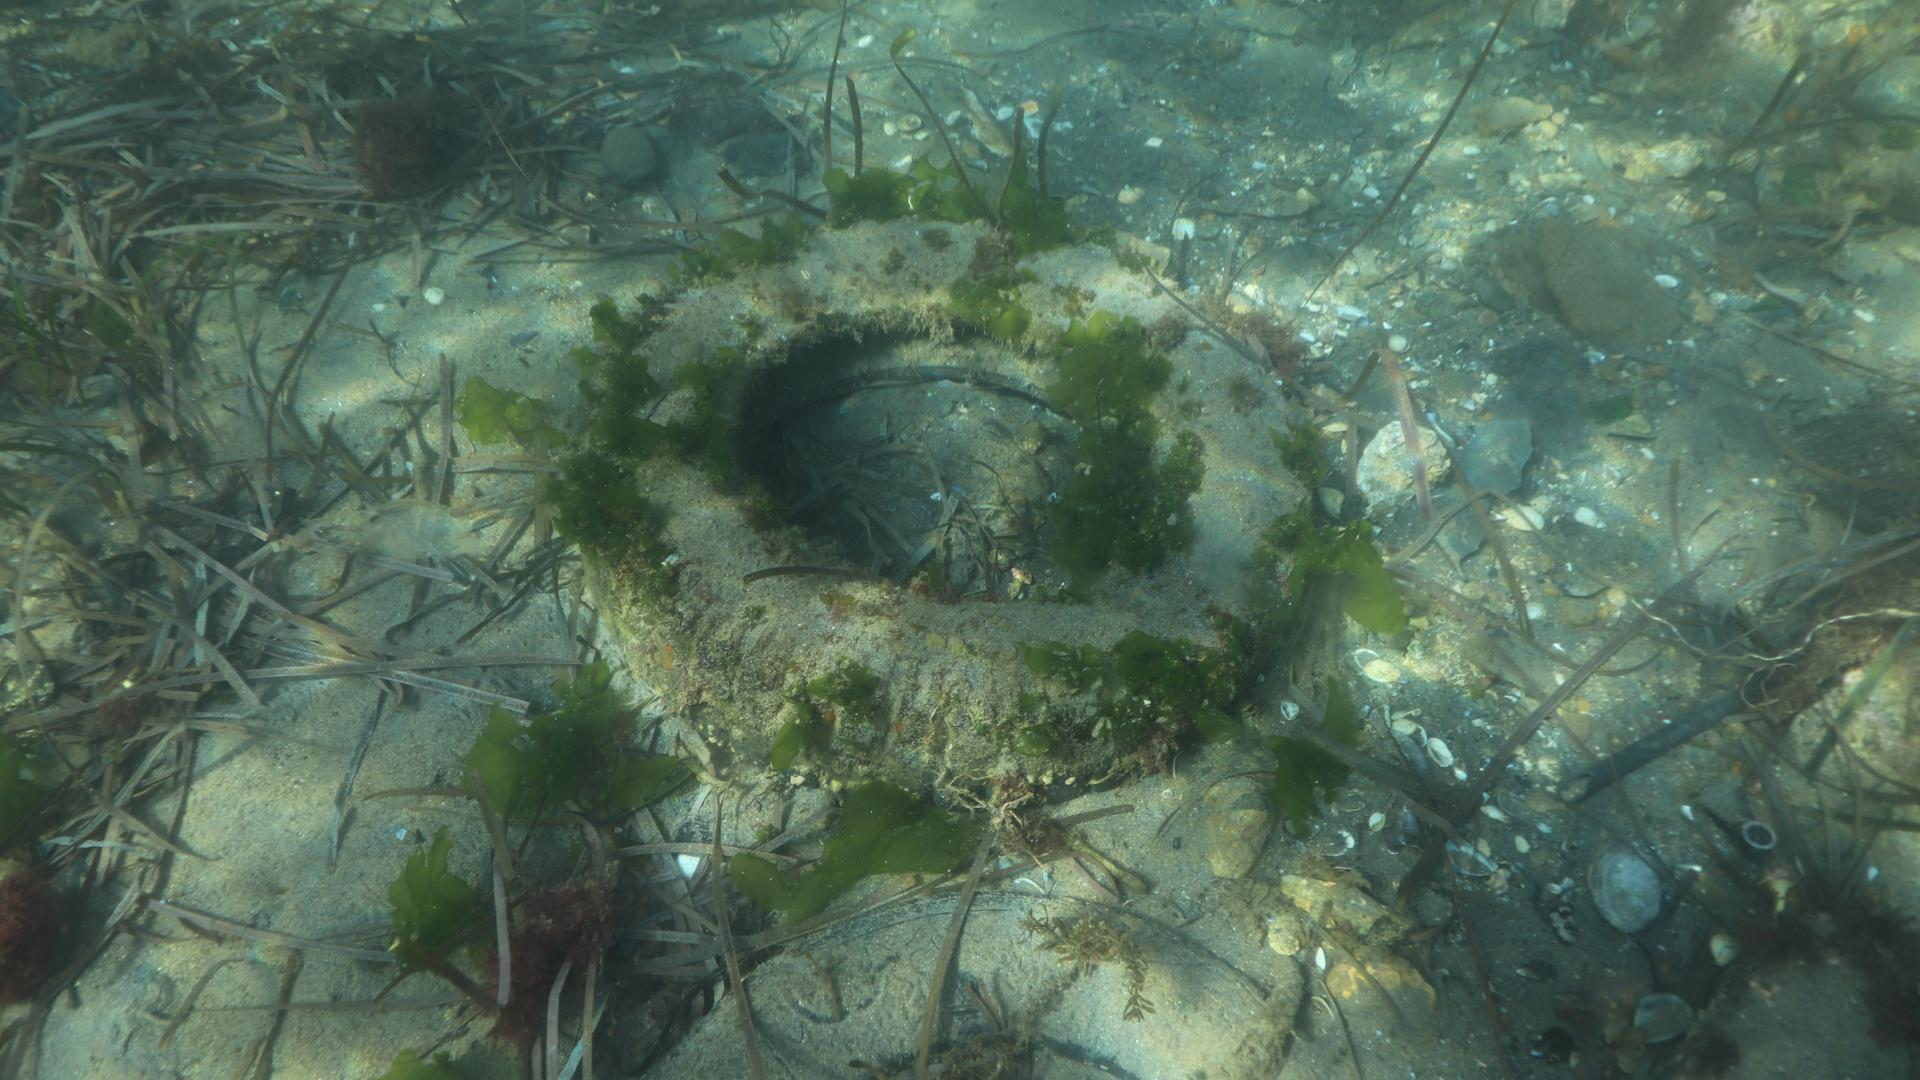tire: (582, 216, 1313, 811)
